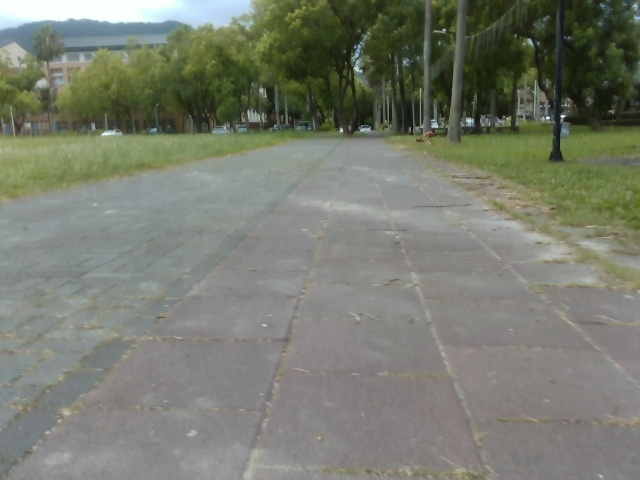grass: (0, 0, 639, 135), (382, 121, 639, 275), (0, 129, 339, 202)
road: (0, 136, 639, 479)
